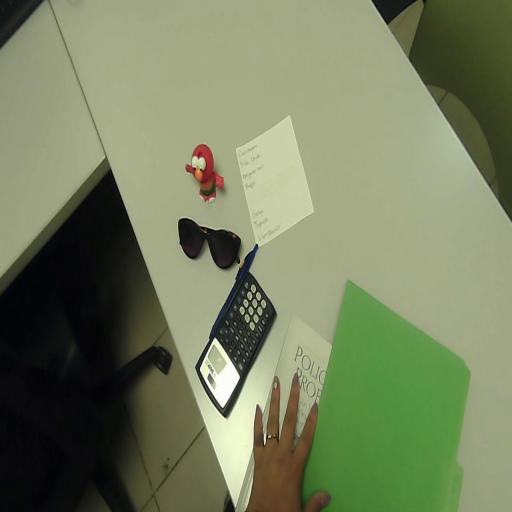pen: (210, 244, 258, 335)
